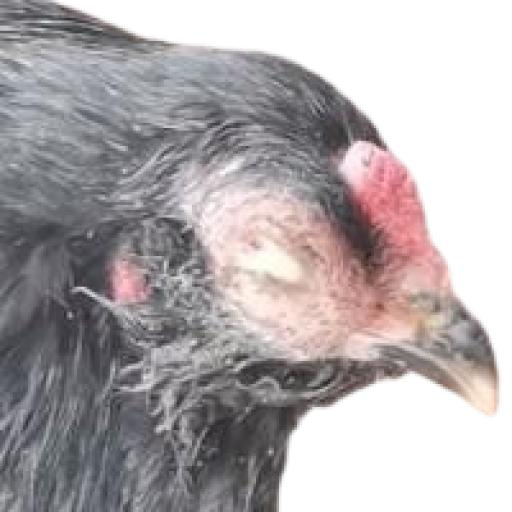disease: (156, 148, 334, 408)
